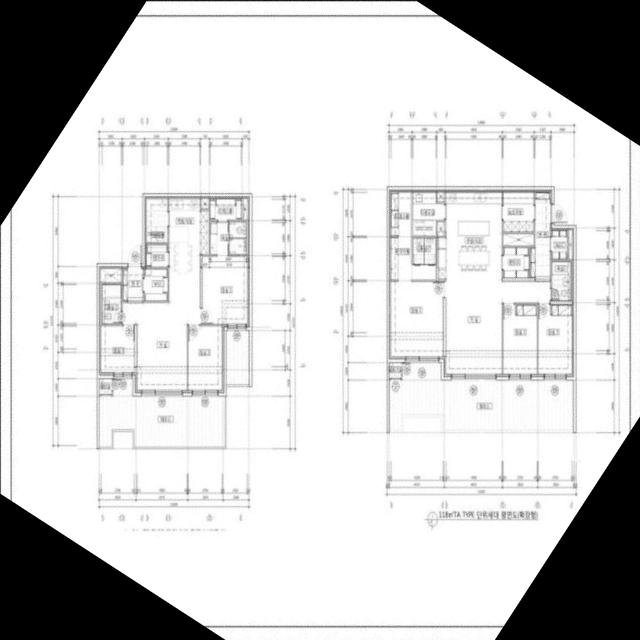background: (0, 0, 640, 640)
space_bedroom: (390, 281, 443, 358), (202, 255, 248, 325), (503, 303, 536, 375), (538, 304, 571, 375), (188, 325, 221, 391), (100, 325, 134, 374)
space_dressroom: (390, 191, 411, 235), (210, 198, 241, 219)
space_front: (530, 191, 550, 278), (122, 266, 142, 300)
space_kitchen: (438, 191, 501, 278), (169, 198, 208, 274), (503, 191, 533, 231)
space_living_room: (444, 278, 550, 375), (122, 274, 199, 391)
space_other: (390, 237, 435, 279), (412, 191, 443, 235), (146, 197, 167, 242), (143, 268, 167, 300), (503, 246, 528, 276), (146, 244, 167, 266), (551, 230, 567, 258), (503, 233, 533, 245), (100, 268, 121, 281), (568, 229, 572, 258), (242, 198, 247, 219), (437, 221, 444, 235), (437, 191, 444, 201), (201, 198, 208, 207)
space_outdoor_room: (389, 361, 401, 377), (99, 378, 111, 393)
space_toilet: (210, 221, 246, 253), (101, 283, 121, 323), (551, 260, 570, 300), (412, 237, 435, 263)
